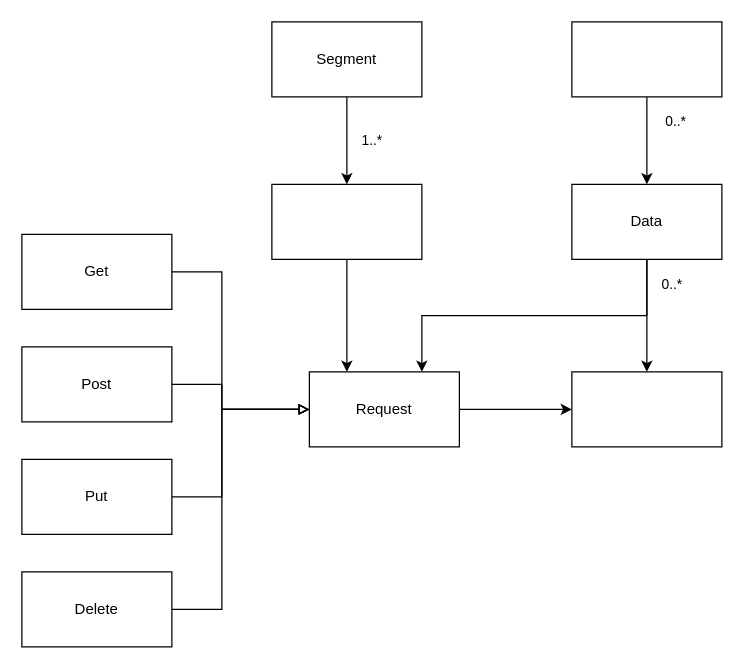
Image size: 744x669. Some labels were removed from this diagram. Each missing label, with the box of its shape:
Answer - int : status: (571, 371, 722, 447)
Parameter: (571, 21, 722, 97)
Route: (271, 183, 422, 259)
